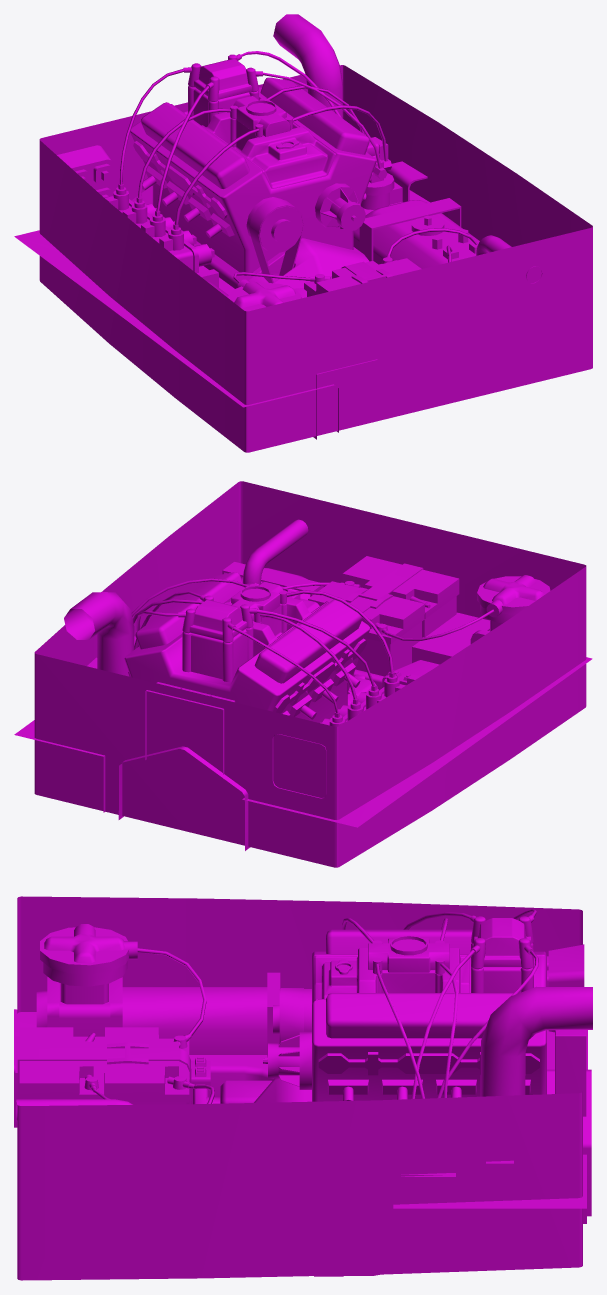
The model's file is CoeTruck_Engine_LOD0.fbx.
3 views of the same model, one above another, from view 1: azimuth 30°, elevation 25°; view 2: azimuth 150°, elevation 25°; view 3: azimuth 270°, elevation 25° (orthographic). The views are drawn at different scales.
Parts seen in each view (by area): view 1: SM_CoeTruck_Engine_LOD0; view 2: SM_CoeTruck_Engine_LOD0; view 3: SM_CoeTruck_Engine_LOD0.
Part boxes in pixels (left/top/right/bottom): SM_CoeTruck_Engine_LOD0: left=14, top=14, right=592, bottom=452; SM_CoeTruck_Engine_LOD0: left=14, top=481, right=592, bottom=867; SM_CoeTruck_Engine_LOD0: left=14, top=896, right=592, bottom=1280.
Size of the model in its own units: 1.48 by 1.71 by 0.8218.
